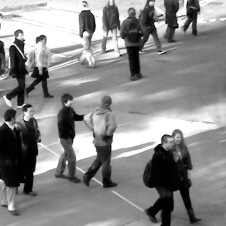person: (85, 95, 120, 187), (168, 127, 201, 224), (54, 93, 85, 183), (148, 134, 175, 226), (1, 109, 23, 216), (17, 103, 41, 197), (119, 7, 146, 80), (4, 29, 27, 109), (28, 33, 54, 99), (138, 1, 168, 55), (77, 1, 98, 67), (101, 1, 120, 59), (163, 1, 181, 43), (183, 1, 200, 36)
